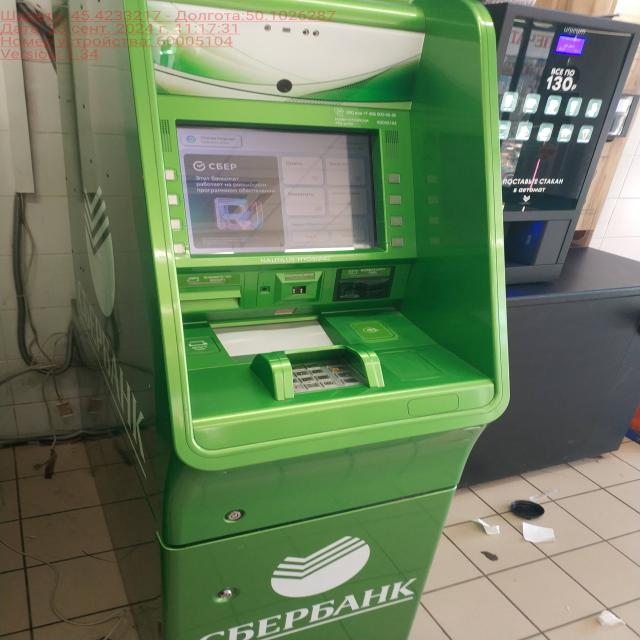bank: (51, 0, 516, 640)
